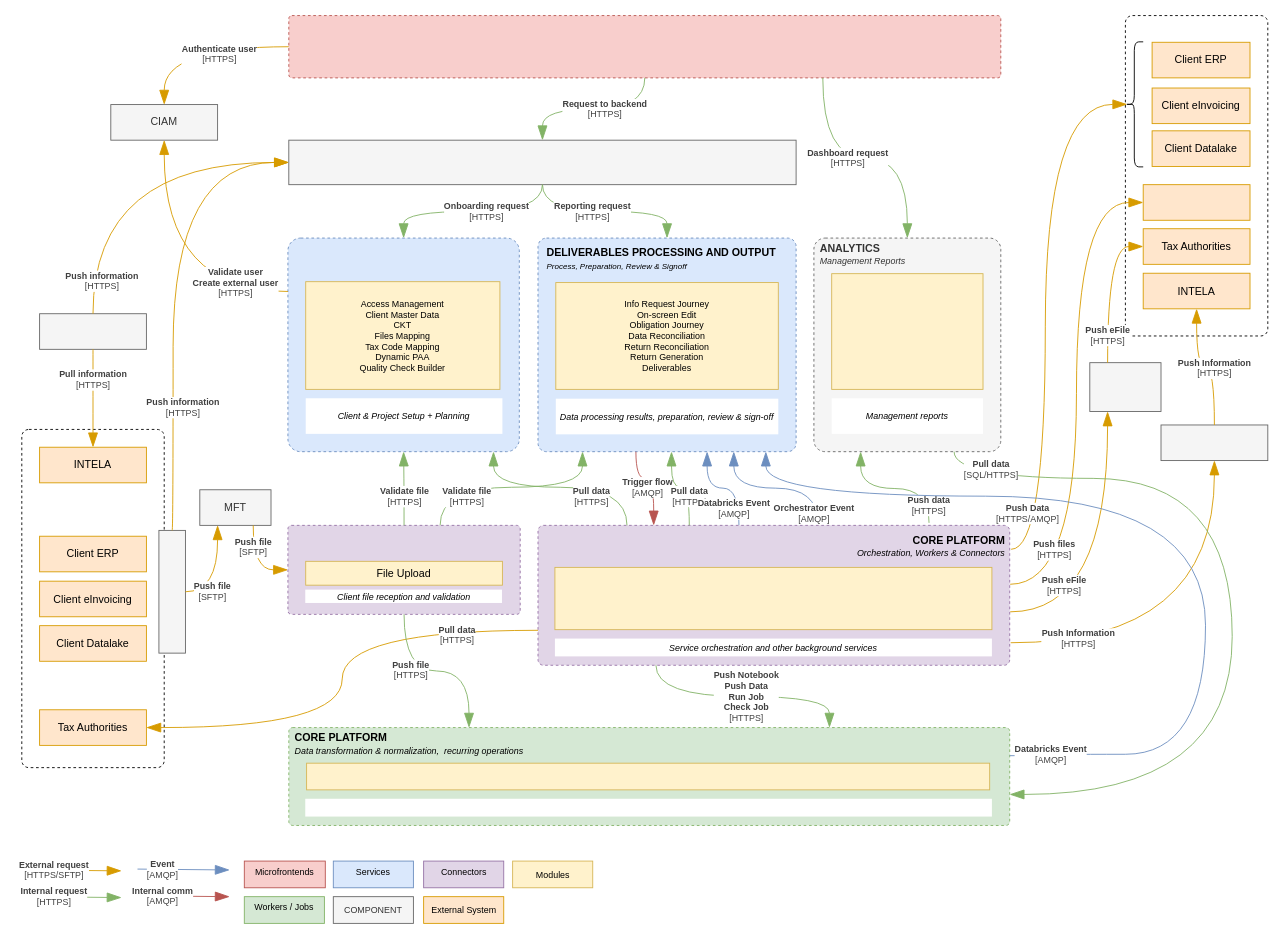
This 1283x939 diagram has some shape labels left out. The box of each missing label's shape, as (x1, y1, x2, y2) in pixels:
Archiving System: (1142, 184, 1250, 220)
CORE PLATFORM Data ingestion: (287, 524, 520, 614)
Dashboarding: (831, 273, 983, 389)
Data Extractor: (158, 530, 185, 653)
Data ingestion, transformation, normalization, validations and analytics: (305, 798, 991, 816)
File Mapping, PAA, Quality Check, Return Generation: (306, 762, 990, 790)
GATEWAY: (288, 139, 796, 185)
INTELA Connector (Input Flow): (39, 313, 146, 349)
INTELA Connector (Output Flow): (1160, 424, 1268, 461)
ITC 2 PORTAL Microfrontends: (288, 15, 1001, 78)
ONBOARDING Client/Project Setup & Planning: (287, 237, 519, 452)
Source Systems: (21, 429, 164, 768)
Submission Platform 2.0: (1089, 362, 1161, 412)
Target Systems: (1125, 15, 1268, 336)
Workflow Orchestrators: (554, 566, 992, 630)
